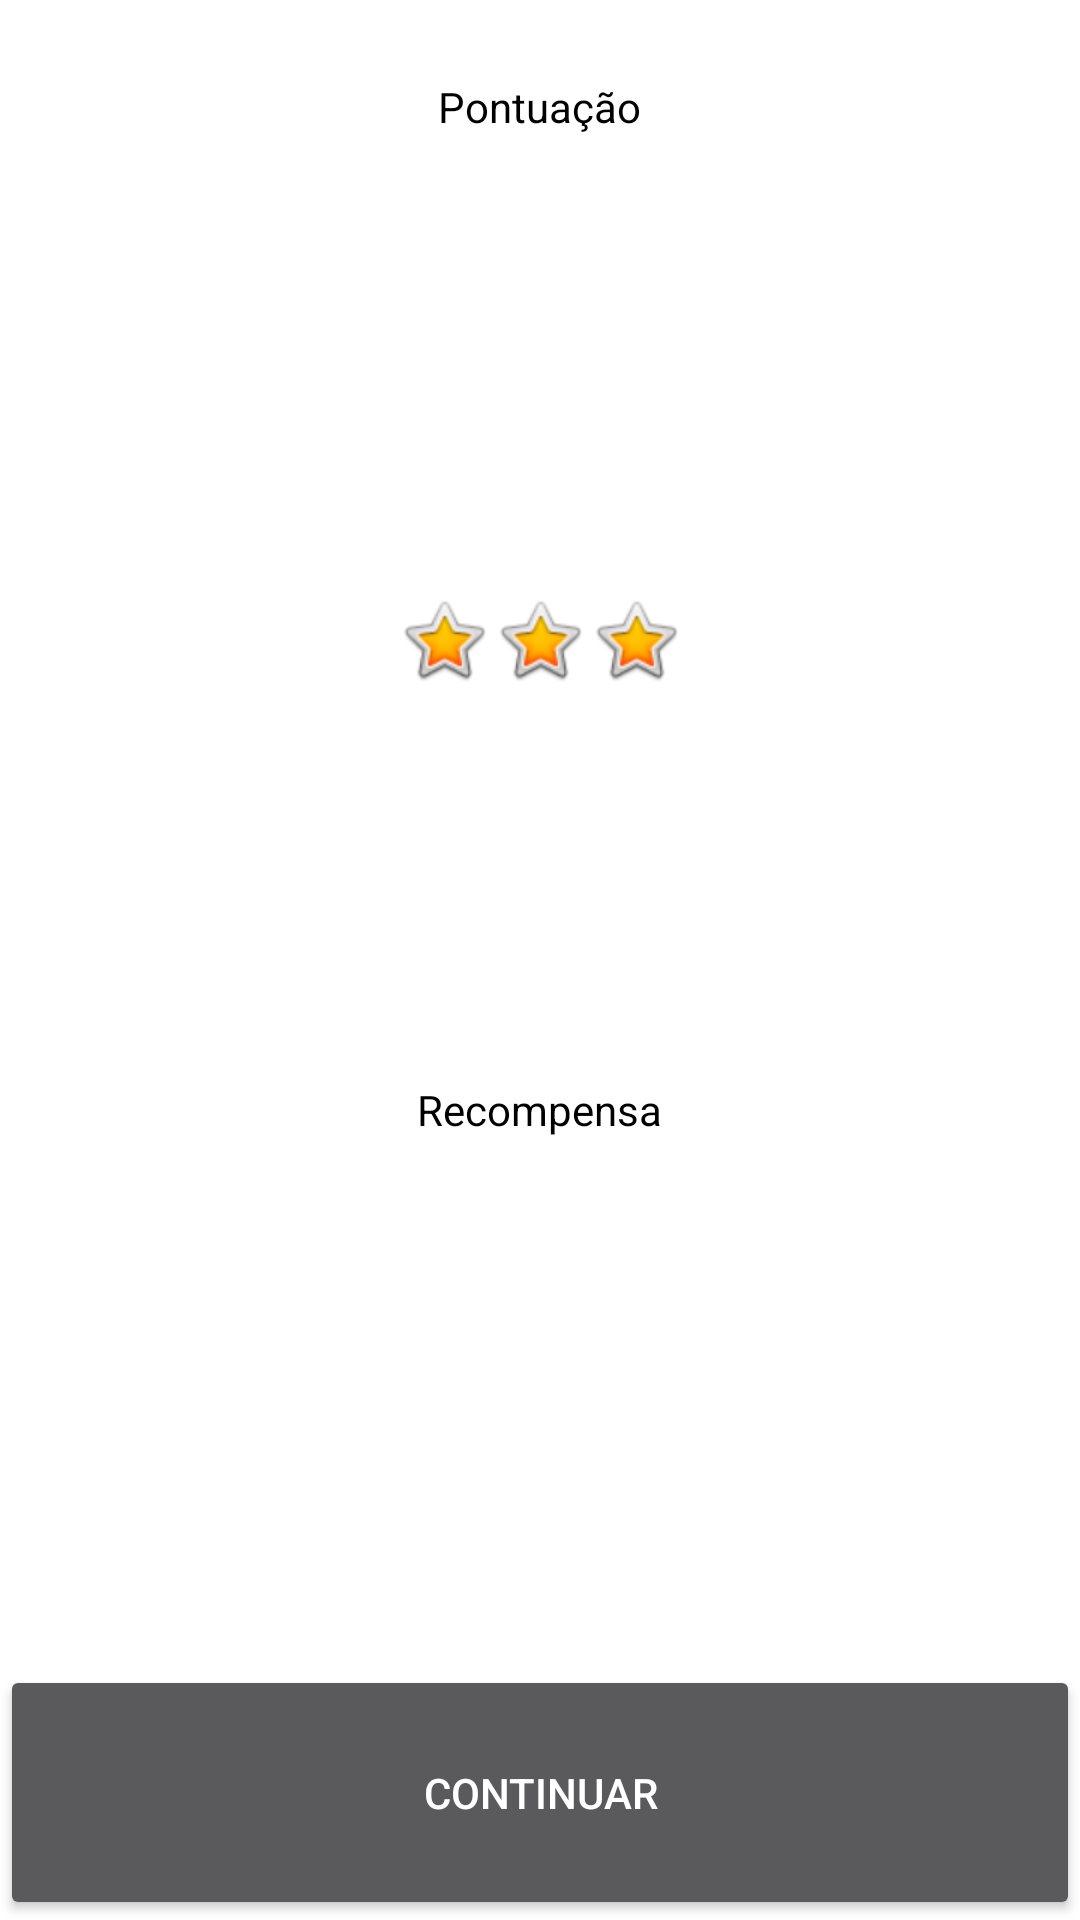

Icons on this 1080px×1920px Android screen, each with its box as {"x1": x1, "y1": y1, "x2": x2, "y2": y2}:
star on: {"x1": 405, "y1": 602, "x2": 485, "y2": 680}, {"x1": 501, "y1": 602, "x2": 581, "y2": 680}, {"x1": 597, "y1": 602, "x2": 677, "y2": 680}
